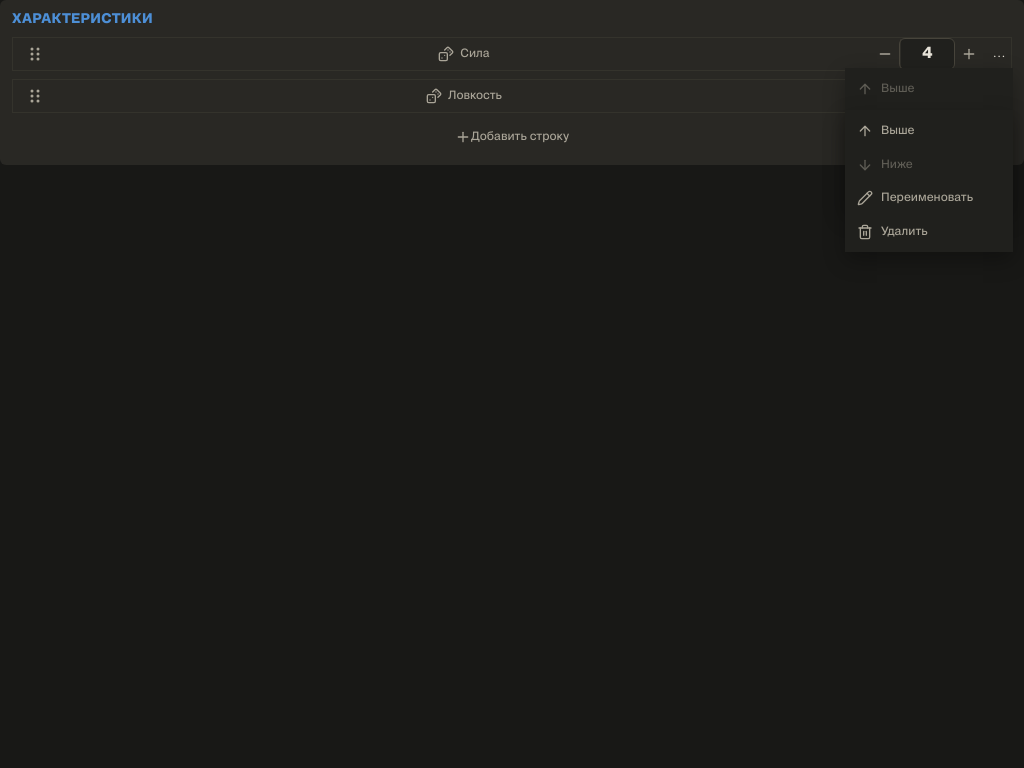
Scenario: карточка группы характеристик › показывает, что именно держит строку, вместо голого отказа
Click the button with aria-label "Удалить «Ловкость»": (929, 231) [849,215,1009,248]
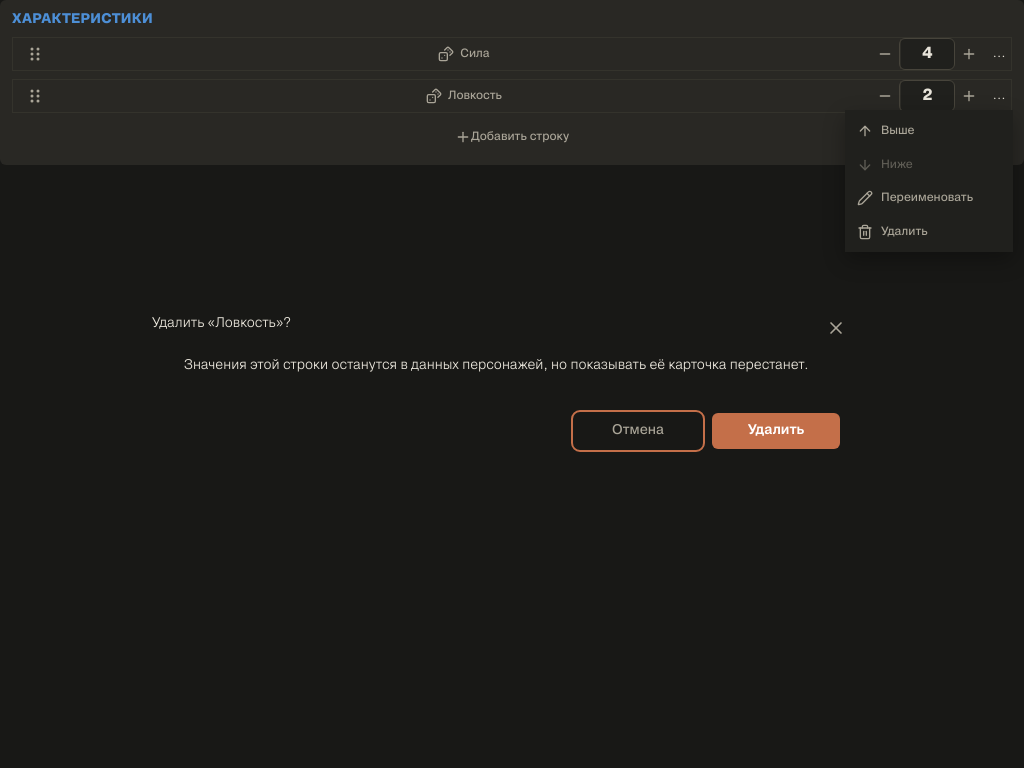
Click the button "Удалить": (776, 430) [712,412,840,448]
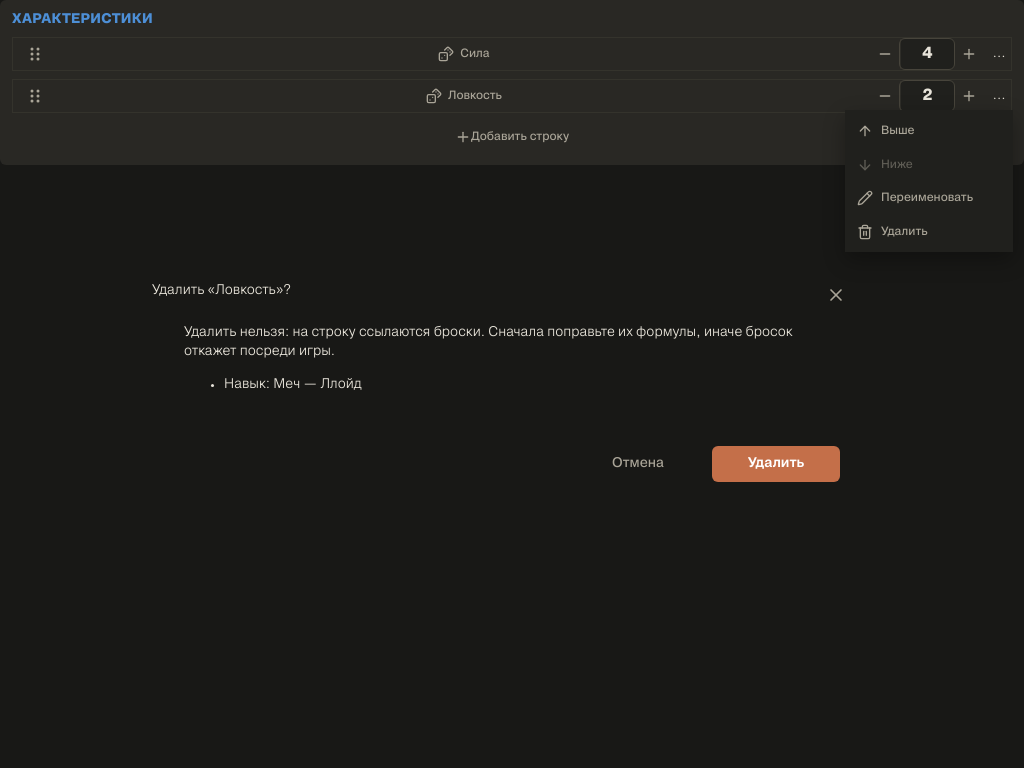
Check: the list item "Навык: Меч — Ллойд" is shown, box [224,378,362,390]
